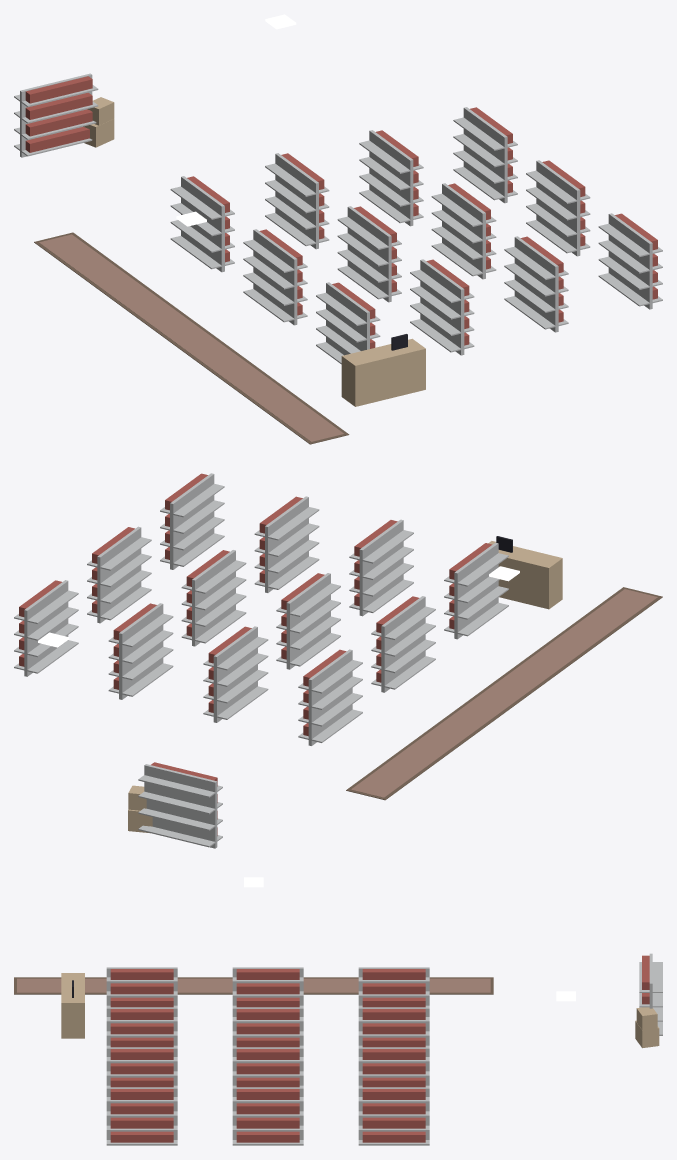
The model's file is fine-s0.glb.
The picture shows the model from 3 angles, top to bottom: view 1: azimuth 30°, elevation 25°; view 2: azimuth 150°, elevation 25°; view 3: azimuth 270°, elevation 25°; orthographic projection. The views are drawn at different scales.
Visible parts, largest first — view 1: soft-s0, shelving.000, shop-counter.000, shelf.010, shelf.005, shelf.006, shelf.001, shelf.008, shelf.009, shelf.004, shelf.011, shelf.003 (+4 smaller); view 2: soft-s0, shelving.000, shelf.006, shelf.003, shelf.008, shelf.000, shelf.004, shelf.007, shelf.001, shelf.011, shelf.005, shelf.010 (+4 smaller); view 3: soft-s0, shelf.009, shelf.010, shelf.011, shelf.000, shelf.001, shelf.002, shelf.003, shelf.004, shelf.005, shelf.006, shelf.007 (+4 smaller).
Boxes of the visible parts, x1=… form: soft-s0: x1=34, y1=232, x2=349, y2=444; shelving.000: x1=14, y1=73, x2=98, y2=157; shop-counter.000: x1=341, y1=334, x2=425, y2=406; shelf.010: x1=526, y1=160, x2=590, y2=256; shelf.005: x1=410, y1=259, x2=474, y2=355; shelf.006: x1=359, y1=130, x2=423, y2=226; shelf.001: x1=243, y1=229, x2=307, y2=325; shelf.008: x1=504, y1=236, x2=568, y2=332; shelf.009: x1=453, y1=107, x2=517, y2=203; shelf.004: x1=337, y1=206, x2=401, y2=302; shelf.011: x1=598, y1=213, x2=662, y2=309; shelf.003: x1=265, y1=153, x2=329, y2=249; soft-s0: x1=346, y1=587, x2=662, y2=800; shelving.000: x1=138, y1=762, x2=222, y2=848; shelf.006: x1=108, y1=603, x2=173, y2=699; shelf.003: x1=203, y1=626, x2=268, y2=722; shelf.008: x1=254, y1=496, x2=319, y2=592; shelf.000: x1=298, y1=649, x2=362, y2=745; shelf.004: x1=276, y1=573, x2=340, y2=669; shelf.007: x1=181, y1=550, x2=246, y2=646; shelf.001: x1=371, y1=596, x2=435, y2=692; shelf.011: x1=160, y1=473, x2=224, y2=569; shelf.005: x1=349, y1=519, x2=413, y2=616; shelf.010: x1=87, y1=526, x2=151, y2=623; soft-s0: x1=14, y1=977, x2=493, y2=994; shelf.009: x1=358, y1=1087, x2=429, y2=1145; shelf.010: x1=232, y1=1087, x2=303, y2=1145; shelf.011: x1=106, y1=1087, x2=177, y2=1145; shelf.000: x1=358, y1=967, x2=429, y2=1007; shelf.001: x1=232, y1=967, x2=303, y2=1007; shelf.002: x1=106, y1=967, x2=177, y2=1007; shelf.003: x1=358, y1=1007, x2=429, y2=1047; shelf.004: x1=232, y1=1007, x2=303, y2=1047; shelf.005: x1=106, y1=1007, x2=177, y2=1047; shelf.006: x1=358, y1=1047, x2=429, y2=1087; shelf.007: x1=232, y1=1047, x2=303, y2=1087.
Size of the model in its own units: 10.34 by 2.94 by 16.48.
